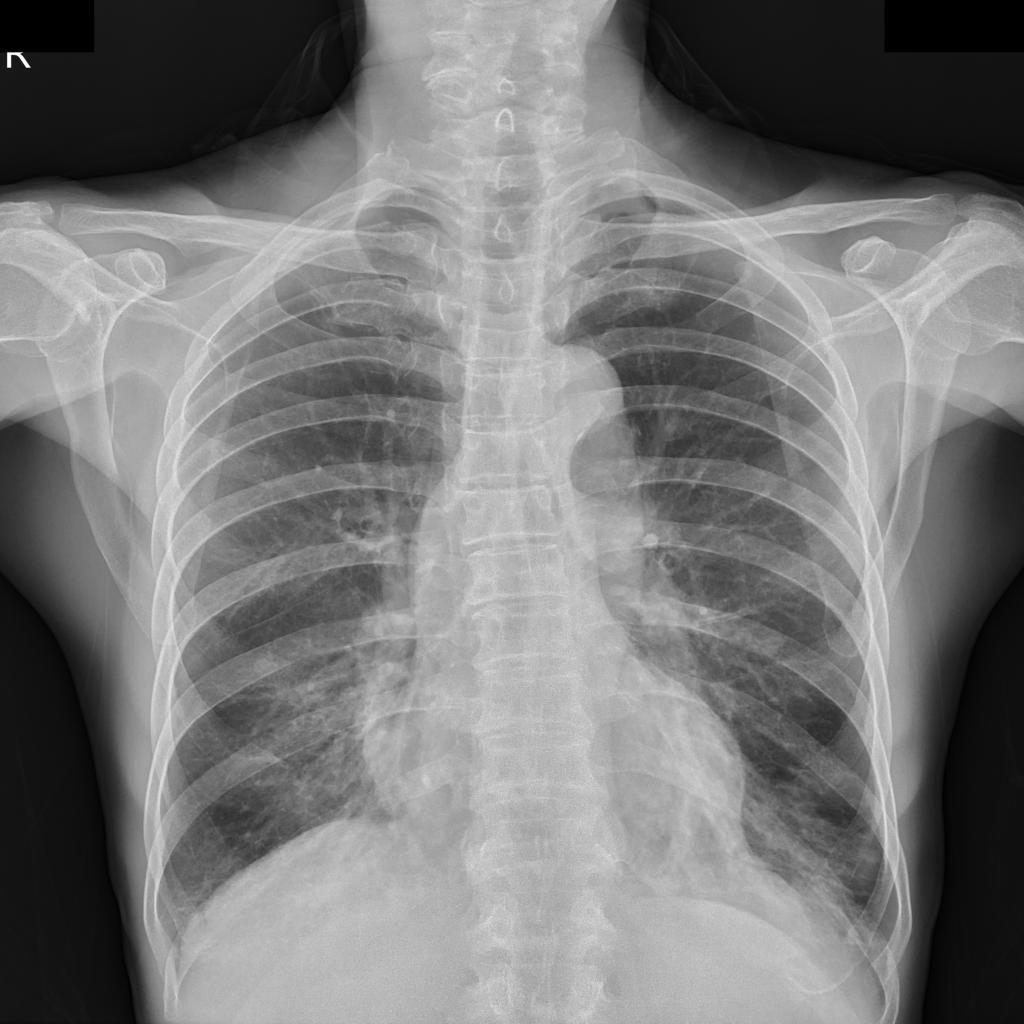Nodule: (256, 657, 278, 676)
